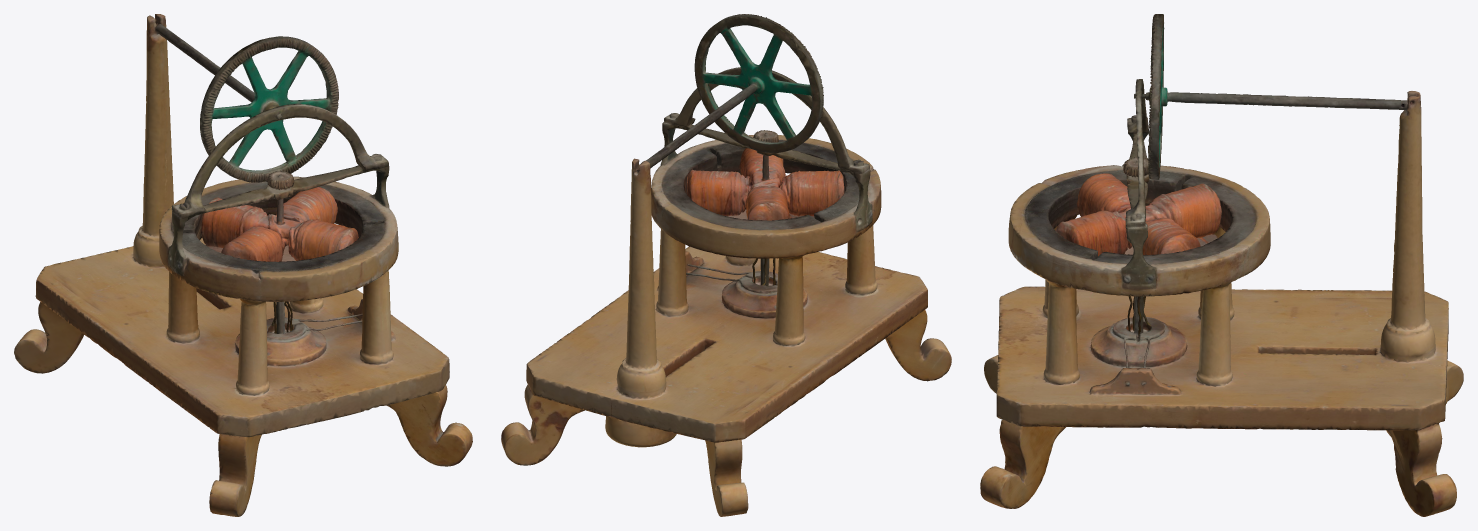
The model's file is davenport-motor-3f9e17063b.glb.
3 renders of one model, left to right at view 1: azimuth 30°, elevation 25°; view 2: azimuth 150°, elevation 25°; view 3: azimuth 270°, elevation 25°, orthographic. The views are drawn at different scales.
Bounding box in the file's own units: 0.2626 × 0.37 × 0.3778.
Materials: 1 (1 with a texture image).
